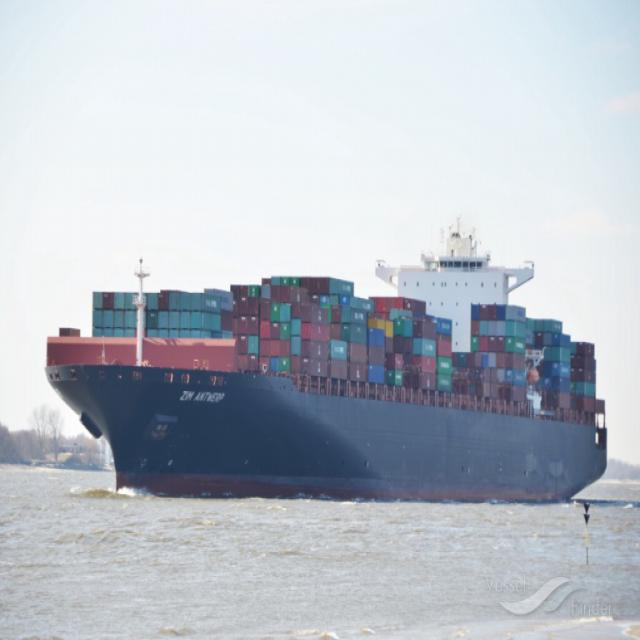Container Ship: (43, 187, 612, 506)
